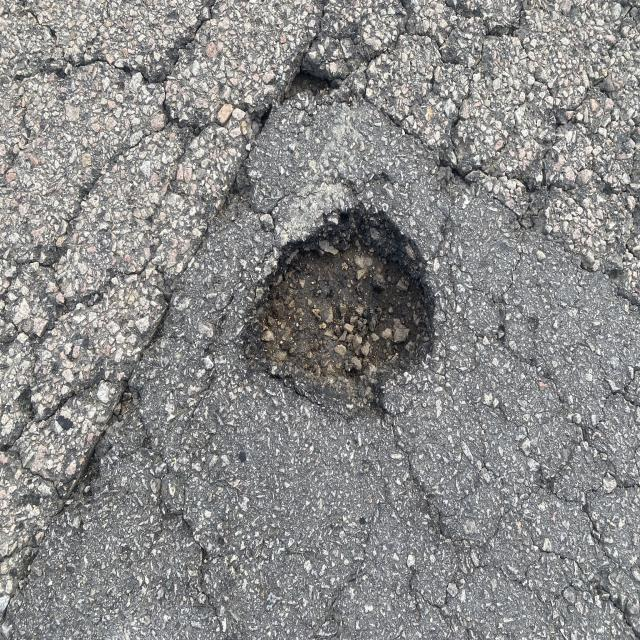pothole: (222, 13, 464, 421)
